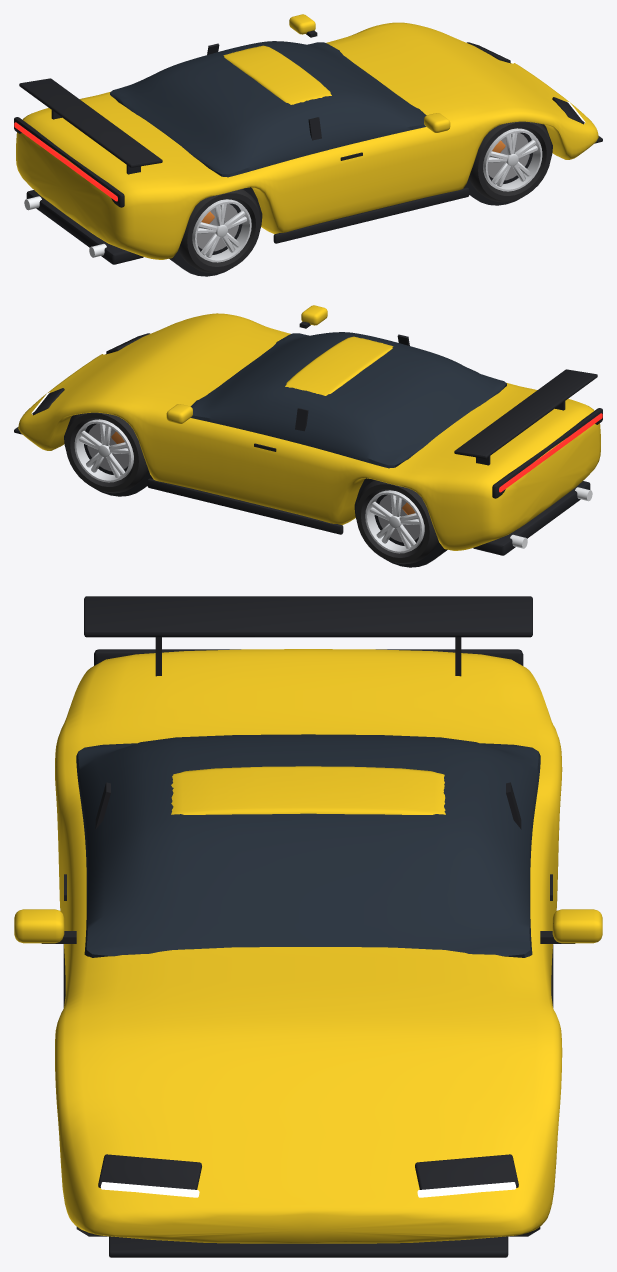
Rendered from kivu.glb.
3 renders of one model, top to bottom at view 1: azimuth 30°, elevation 25°; view 2: azimuth 150°, elevation 25°; view 3: azimuth 270°, elevation 25°, orthographic. The views are drawn at different scales.
Parts seen in each view (by area): view 1: car_paint, car_glass, car_trim, wheel_FR, wheel_RR, car_lightR, car_chrome; view 2: car_paint, car_glass, car_trim, wheel_FL, wheel_RL, car_lightR, car_chrome; view 3: car_paint, car_glass, car_trim, car_lightF.
Boxes of the visible parts, left/top/right/bottom form: car_paint: left=16, top=14, right=598, bottom=259; car_glass: left=110, top=41, right=426, bottom=177; car_trim: left=14, top=30, right=602, bottom=276; wheel_FR: left=468, top=121, right=551, bottom=202; wheel_RR: left=178, top=189, right=260, bottom=273; car_lightR: left=14, top=122, right=117, bottom=201; car_chrome: left=24, top=196, right=106, bottom=257; car_paint: left=18, top=305, right=600, bottom=550; car_glass: left=190, top=332, right=506, bottom=468; car_trim: left=14, top=321, right=602, bottom=567; wheel_FL: left=65, top=412, right=147, bottom=493; wheel_RL: left=356, top=480, right=438, bottom=564; car_lightR: left=499, top=413, right=602, bottom=492; car_chrome: left=510, top=487, right=592, bottom=548; car_paint: left=14, top=649, right=602, bottom=1243; car_glass: left=76, top=734, right=540, bottom=957; car_trim: left=41, top=596, right=575, bottom=1257; car_lightF: left=100, top=1182, right=516, bottom=1197.
Bounding box in the file's own units: 4.57 × 1.24 × 2.36.
